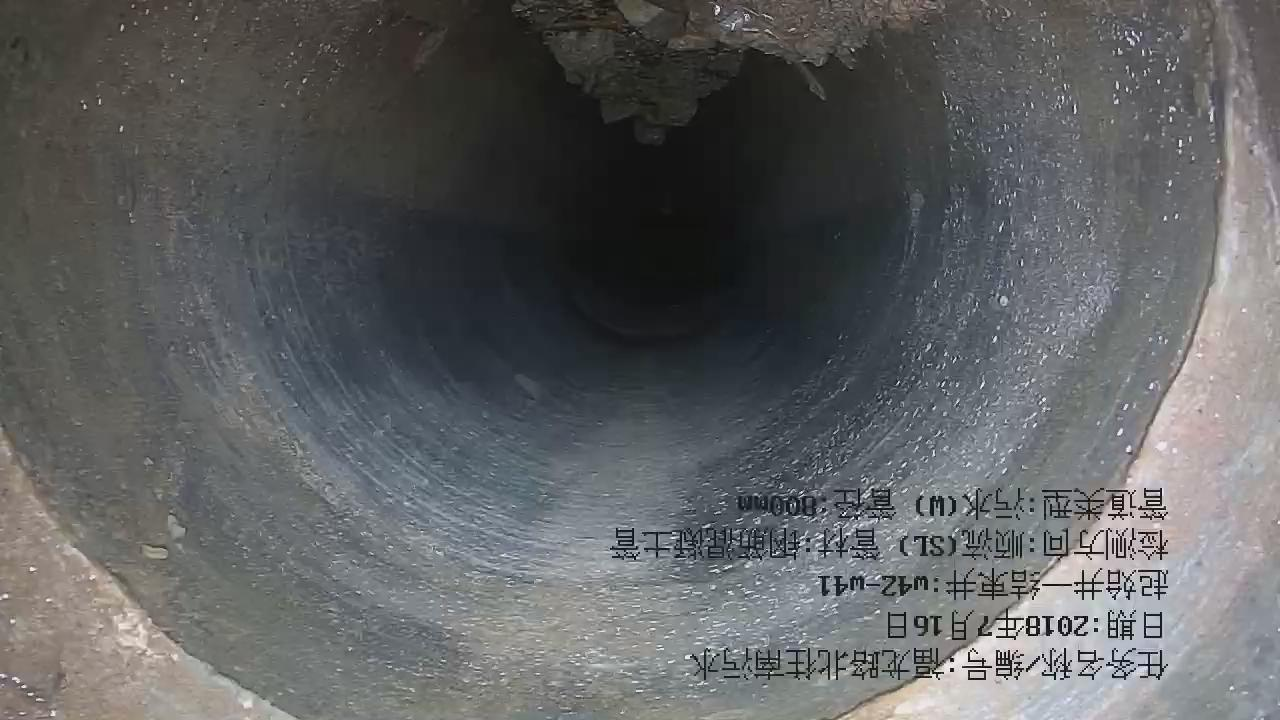CJ: (514, 1, 943, 140)
